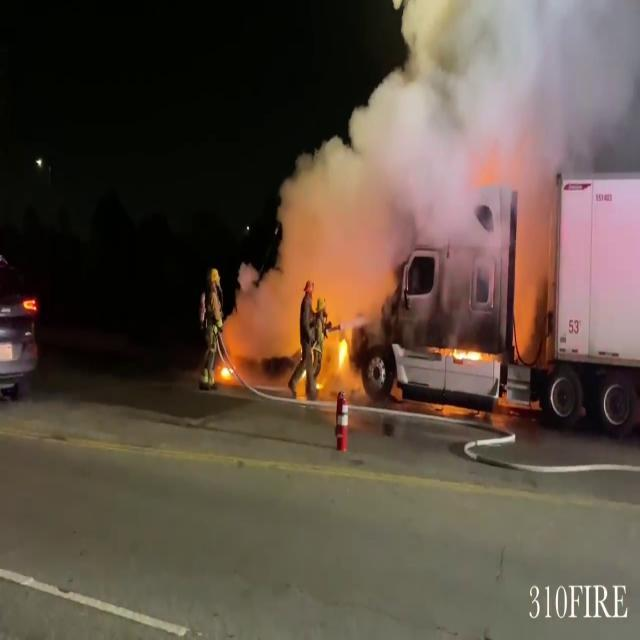Fire: (438, 339, 498, 367), (332, 324, 353, 384)
Smoke: (243, 0, 640, 336)
